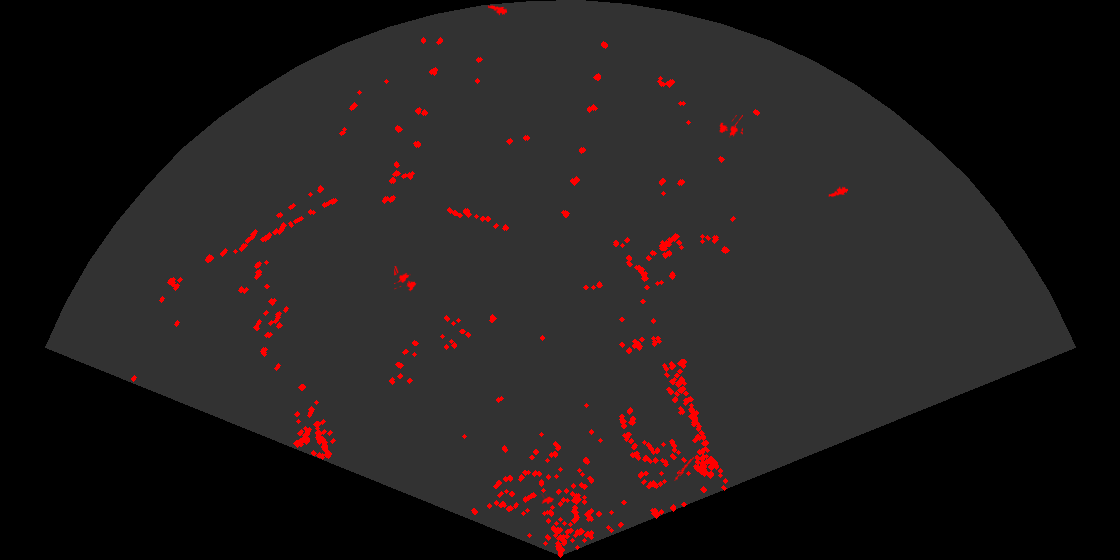AUV: (539, 493, 556, 506)
cage: (394, 266, 418, 293), (718, 115, 743, 139)
chain: (672, 454, 695, 481)
frogman: (828, 185, 848, 199), (486, 4, 507, 17)
